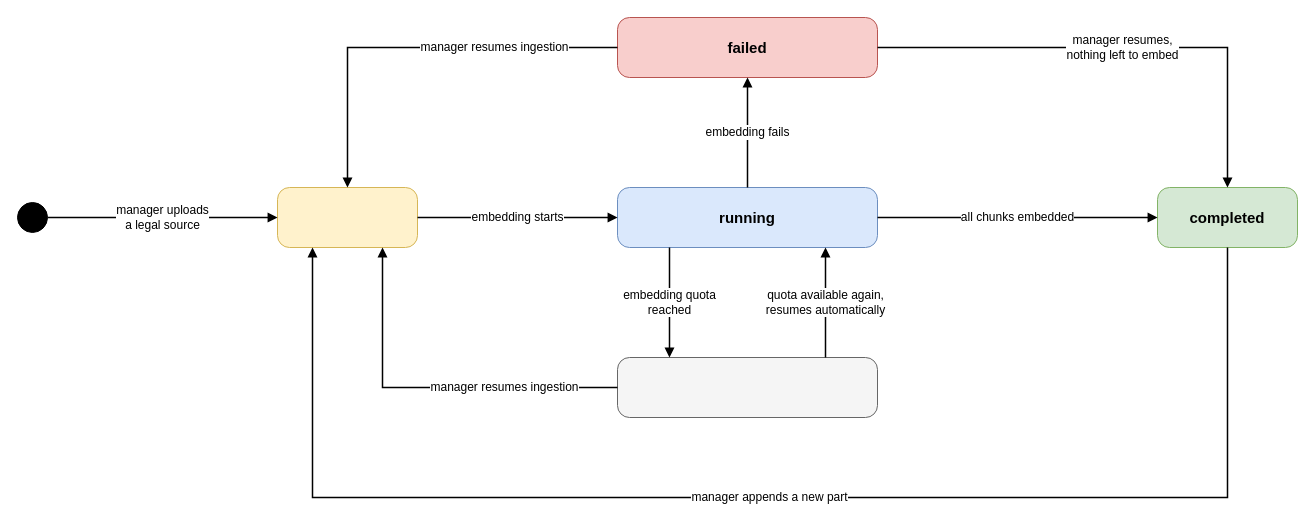
Some shapes in this 1315 by 524 pixel diagram are drawn without their labels. The centre of each missing label's shape, as x and y in pixels:
"paused" belongs at point (747, 387).
"queued" belongs at point (347, 217).
